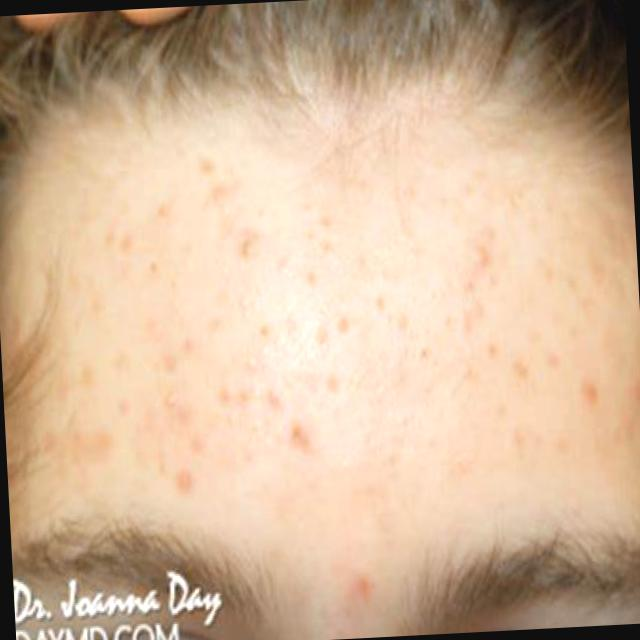fungal: (28, 133, 620, 522)
